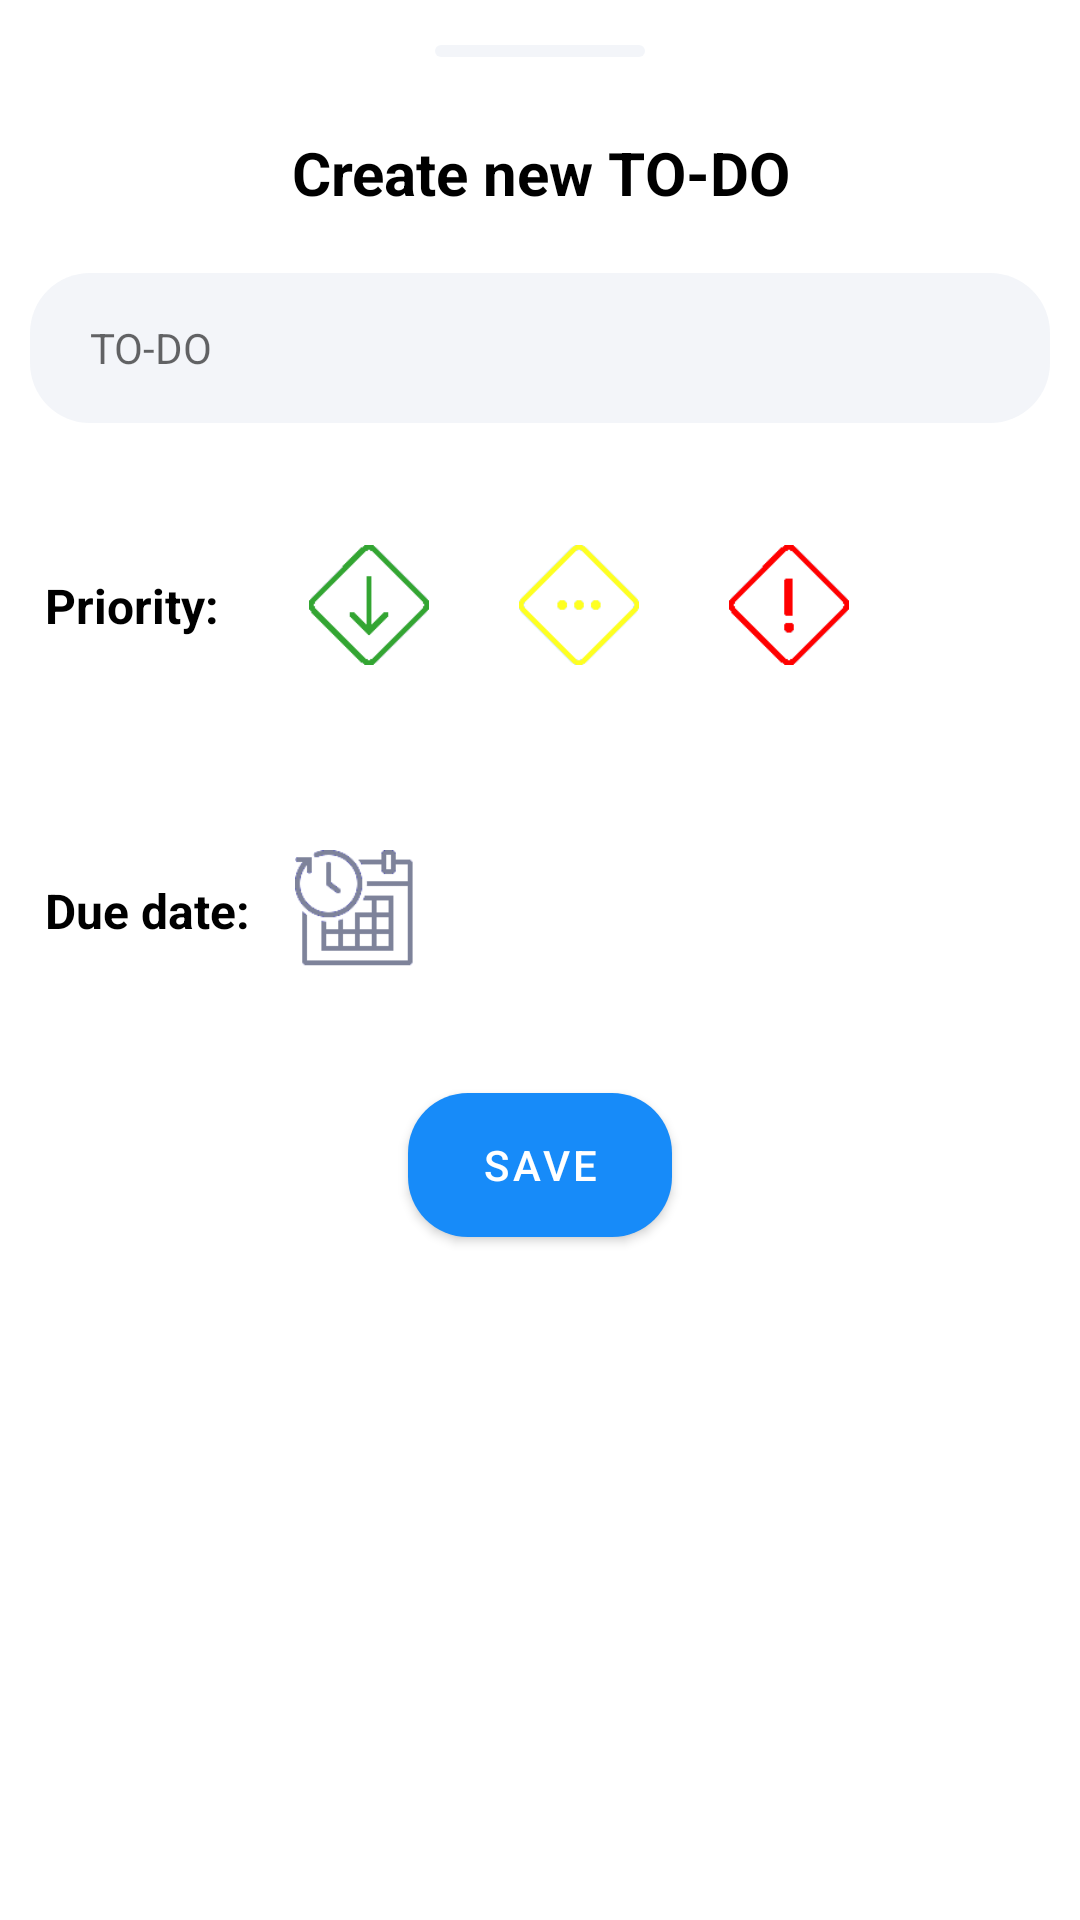

Where icons sit on this 1080*1920 app screen, as [x1=x1, y1=y1, x2=x2, y2=y2]:
high priority: [x1=729, y1=545, x2=849, y2=665]
med priority: [x1=519, y1=545, x2=639, y2=665]
schedule: [x1=295, y1=850, x2=413, y2=966]
